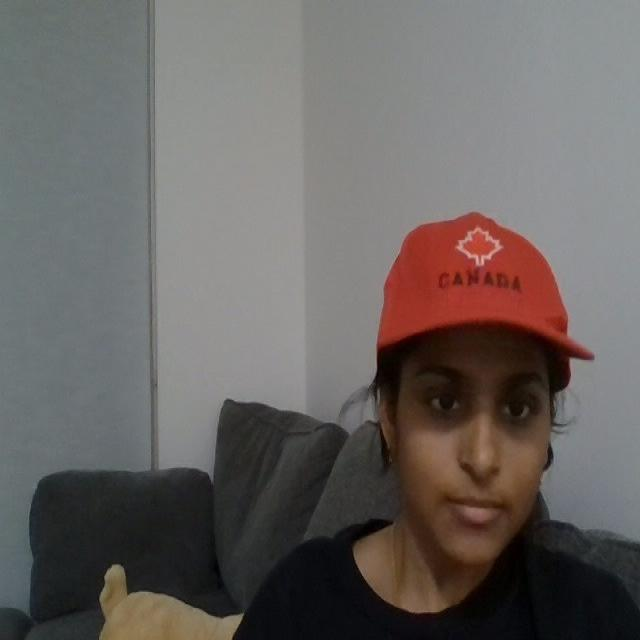Hat: (362, 184, 605, 369)
